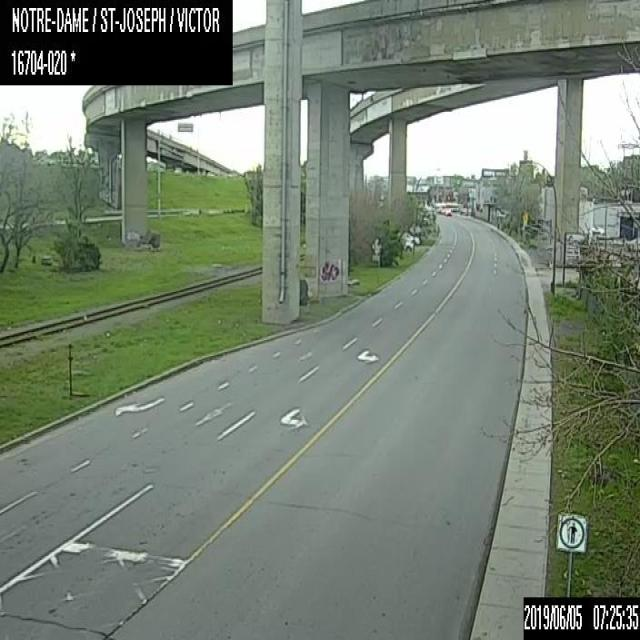vehicle: (402, 230, 420, 244), (402, 237, 412, 251), (445, 210, 451, 216)
